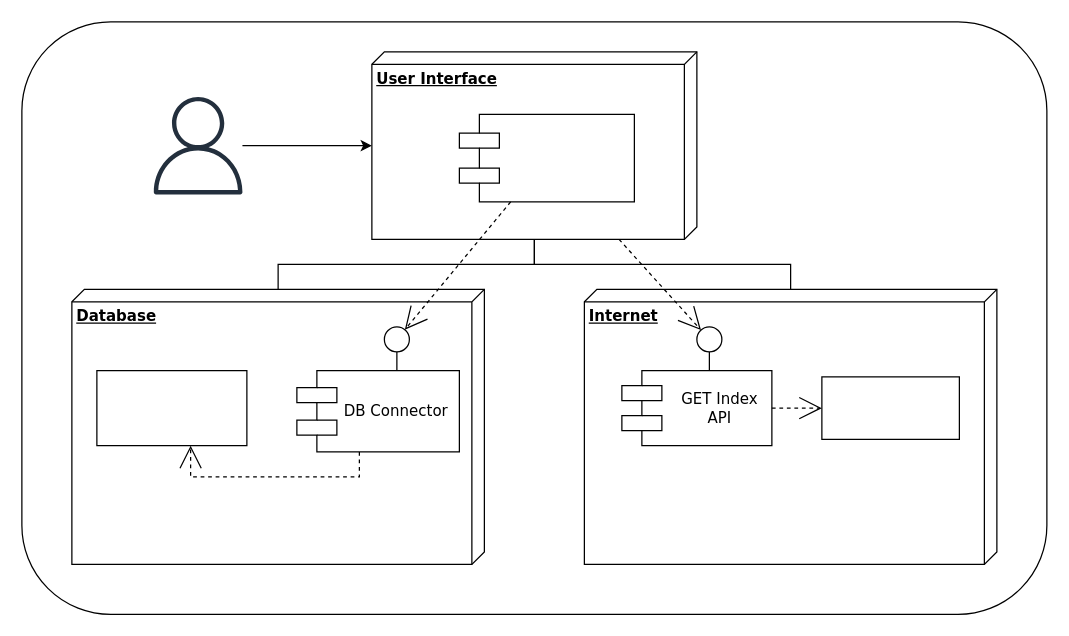
Image size: 1069x636. Some labels were removed from this diagram. The shapes that lost their labels are listed below. From the top down, each one's centre as x and y in pixels, then its label:
(x=546, y=157): Job Comparison Application
(x=171, y=407): «interface» CRUD Operations
(x=890, y=407): «interface» Return Index
